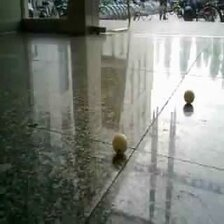w: (111, 133, 130, 155), (183, 90, 195, 105)
